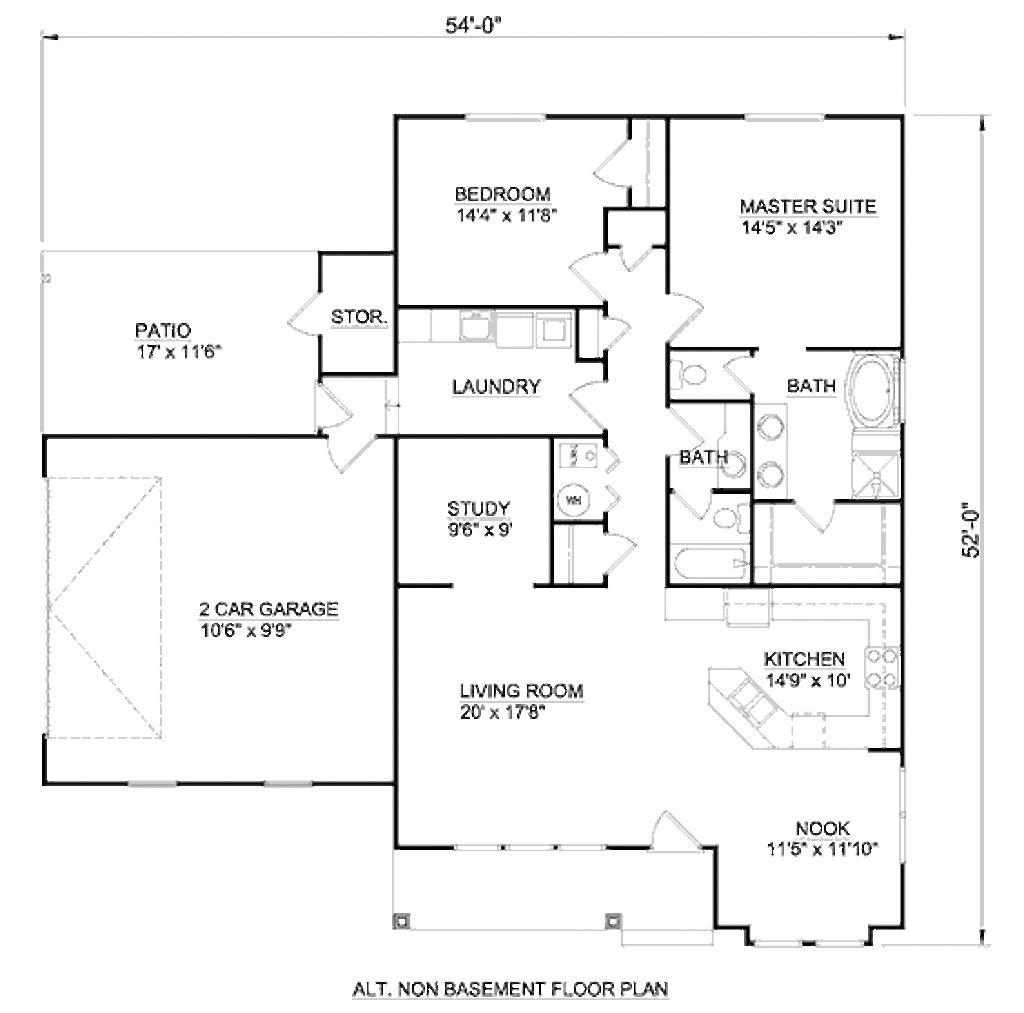door: (280, 288, 348, 342), (316, 419, 381, 471), (647, 803, 709, 854), (658, 285, 707, 347), (567, 245, 614, 300), (307, 379, 361, 426), (587, 130, 630, 185), (721, 349, 764, 401), (667, 404, 705, 460), (593, 529, 639, 574), (570, 375, 606, 431), (794, 501, 842, 540), (676, 483, 712, 525), (615, 243, 658, 273), (604, 315, 634, 356)
large_sink: (664, 356, 713, 394), (711, 502, 748, 542)
small_sink: (753, 399, 786, 499), (713, 438, 751, 484)
tub: (840, 349, 901, 434), (670, 546, 754, 584)
twin_sink: (731, 678, 784, 730)
window: (448, 839, 605, 855), (890, 754, 909, 864), (464, 103, 553, 123), (744, 930, 807, 952), (749, 112, 823, 125), (817, 935, 863, 951)
